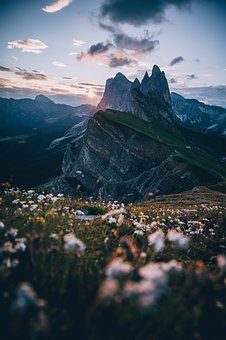field: (8, 185, 225, 336)
mountain: (9, 81, 226, 200)
sky: (3, 3, 220, 87)
